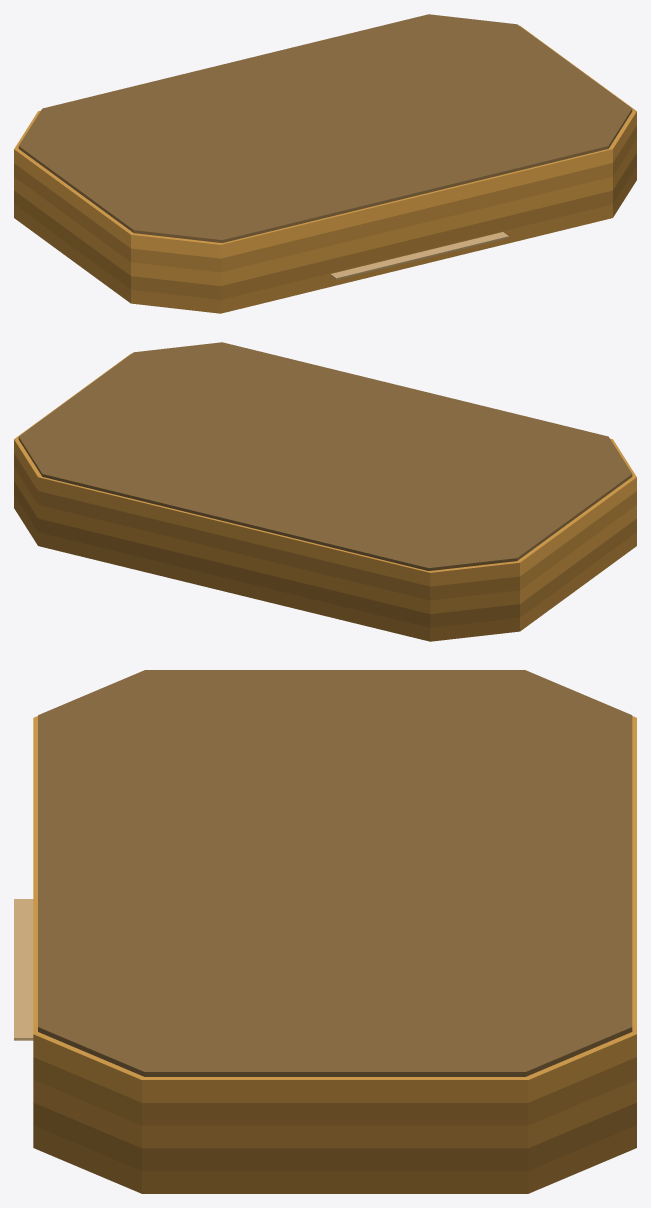
3 views of the same model, one above another, from view 1: azimuth 30°, elevation 25°; view 2: azimuth 150°, elevation 25°; view 3: azimuth 270°, elevation 25° (orthographic). The views are drawn at different scales.
Parts seen in each view (by area): view 1: shell; view 2: shell; view 3: shell.
Boxes of the visible parts, left/top/right/bottom form: shell: left=14, top=14, right=636, bottom=313; shell: left=14, top=342, right=636, bottom=641; shell: left=14, top=670, right=636, bottom=1193.
Size of the model in its own units: 160 by 21.7 by 103.
